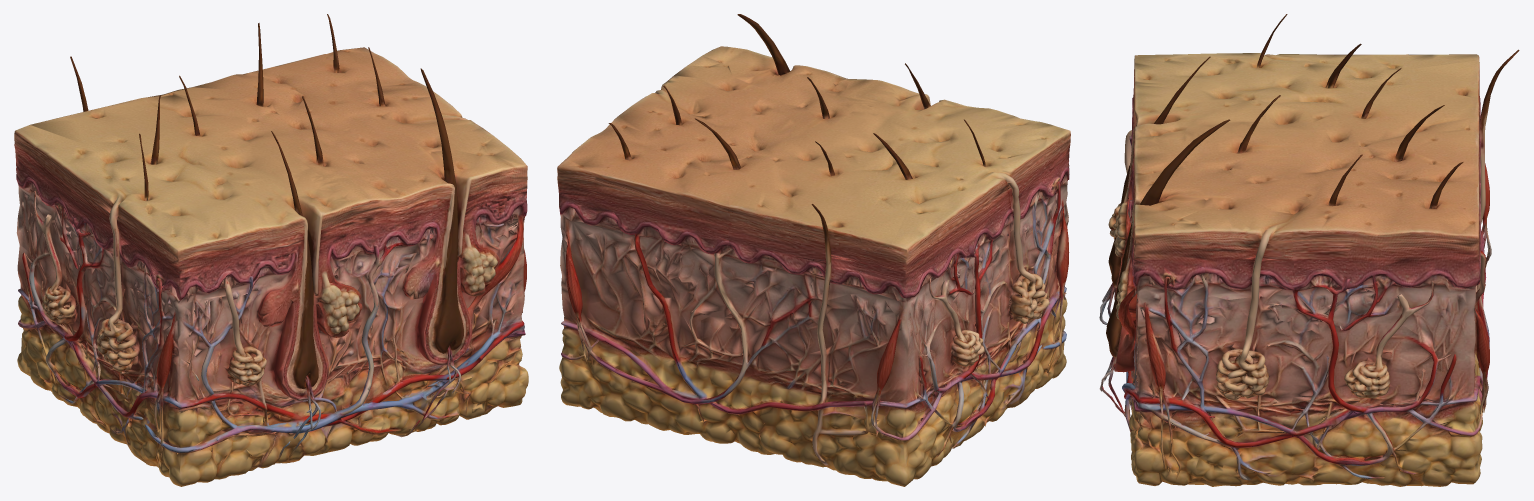
File: skin.glb
The picture shows the model from 3 angles, left to right: view 1: azimuth 30°, elevation 25°; view 2: azimuth 150°, elevation 25°; view 3: azimuth 270°, elevation 25°; orthographic projection. The views are drawn at different scales.
Parts seen in each view (by area): view 1: tripo_node_e5876caf-7f3d-4121-9468-4d7c567ae73f; view 2: tripo_node_e5876caf-7f3d-4121-9468-4d7c567ae73f; view 3: tripo_node_e5876caf-7f3d-4121-9468-4d7c567ae73f.
Boxes of the visible parts, left/top/right/bottom form: tripo_node_e5876caf-7f3d-4121-9468-4d7c567ae73f: left=14, top=14, right=528, bottom=486; tripo_node_e5876caf-7f3d-4121-9468-4d7c567ae73f: left=557, top=14, right=1070, bottom=486; tripo_node_e5876caf-7f3d-4121-9468-4d7c567ae73f: left=1099, top=14, right=1519, bottom=486.
Size of the model in its own units: 0.9793 by 0.7726 by 0.8529.
Materials: 1 (1 with a texture image).
